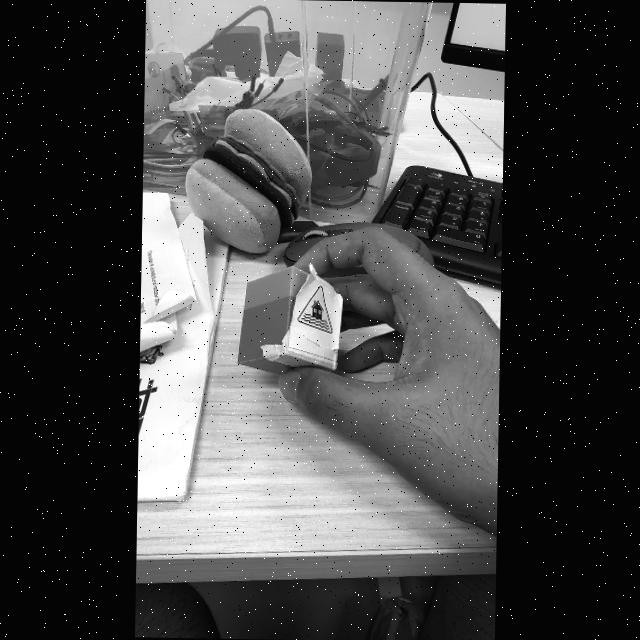Tsunami: (298, 286, 332, 333)
